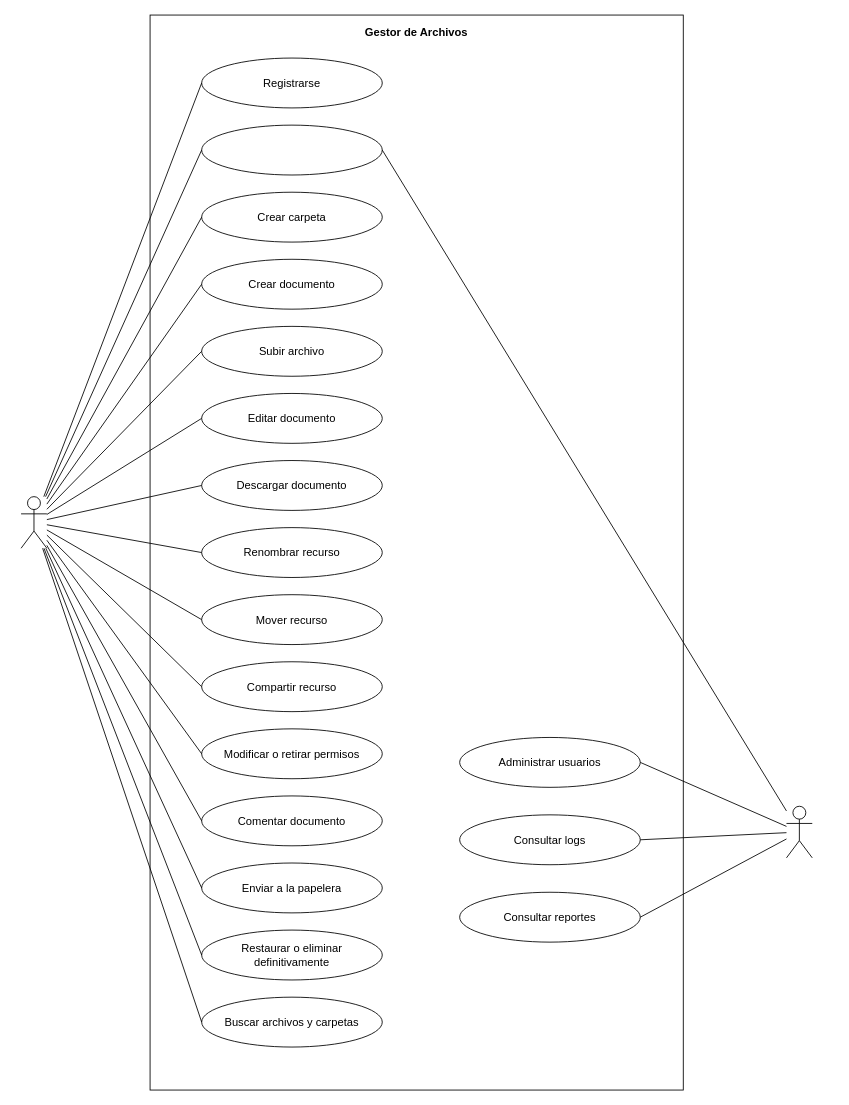
The diagram is 849 pixels wide and 1105 high, and some of its shapes have lost their labels. The centre of each missing label's shape, as x and y in pixels:
"Administrador" goes at point (799, 831).
"Iniciar sesión" goes at point (291, 149).
"Usuario" goes at point (33, 522).
